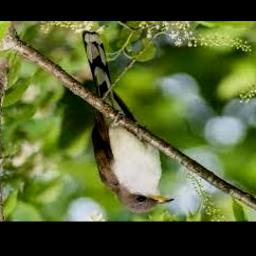Cuckoo: (81, 31, 173, 213)
